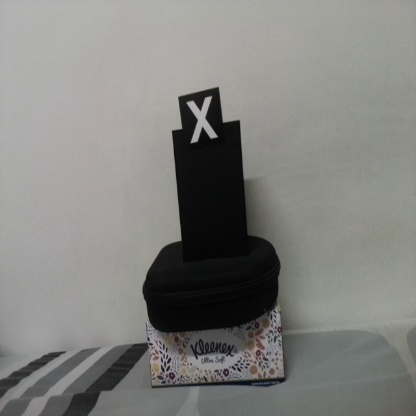id_13: (178, 95, 223, 150)
